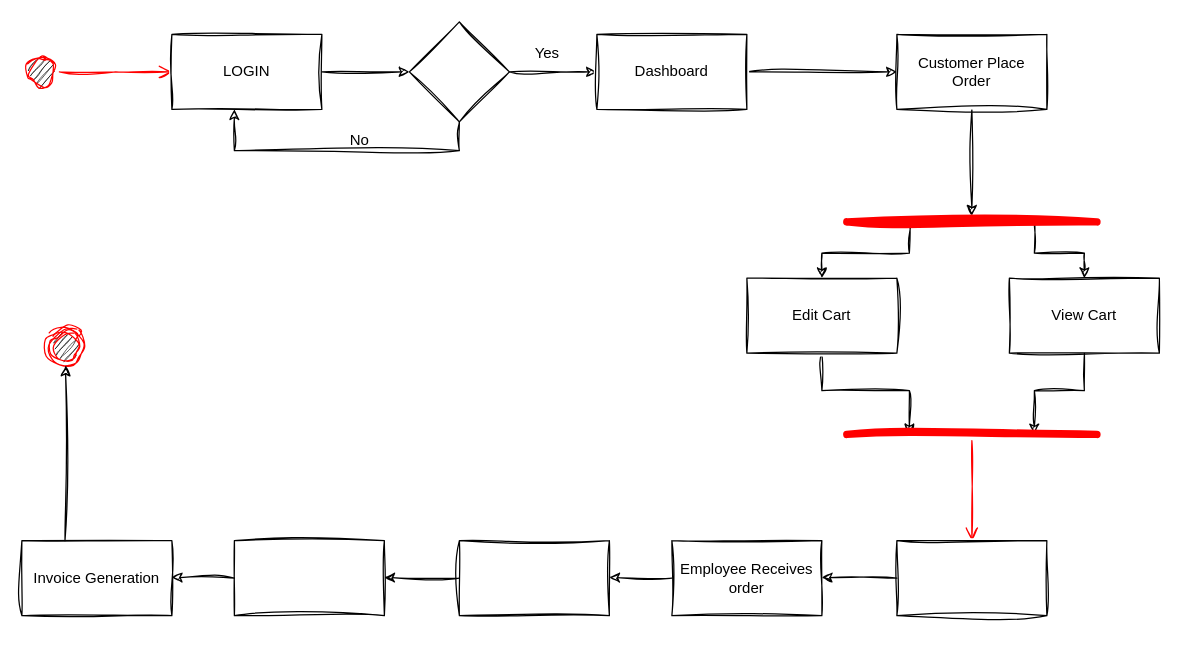
Image size: 1181x648. Some labels were removed from this diagram. The box of each missing label's shape, as (x1, y1, x2, y2) in pixels:
Bill Payment: (233, 539, 384, 616)
Confirm Order: (896, 539, 1047, 616)
correct pass.: (408, 21, 509, 122)
Employee Delivers Washed Clothes: (458, 539, 609, 616)
